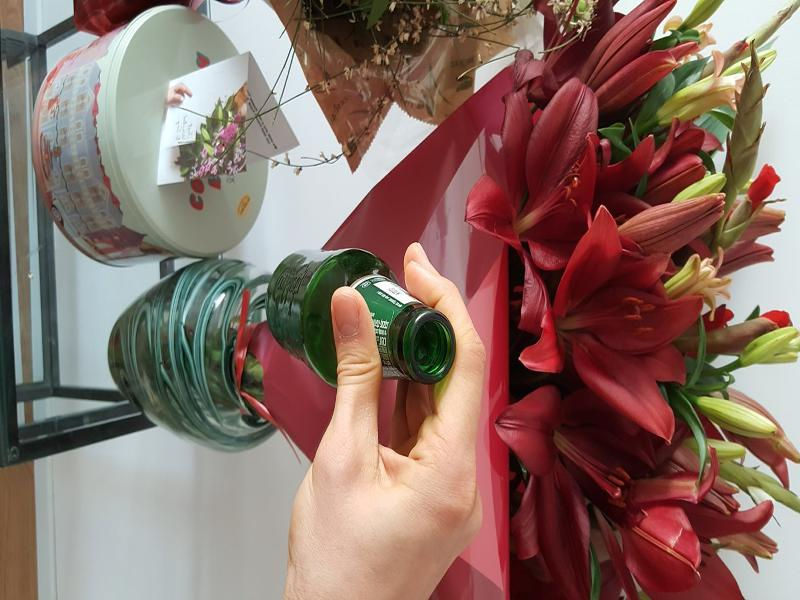Beer: (266, 248, 456, 388)
